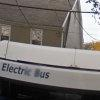Boat: (0, 32, 98, 97)
